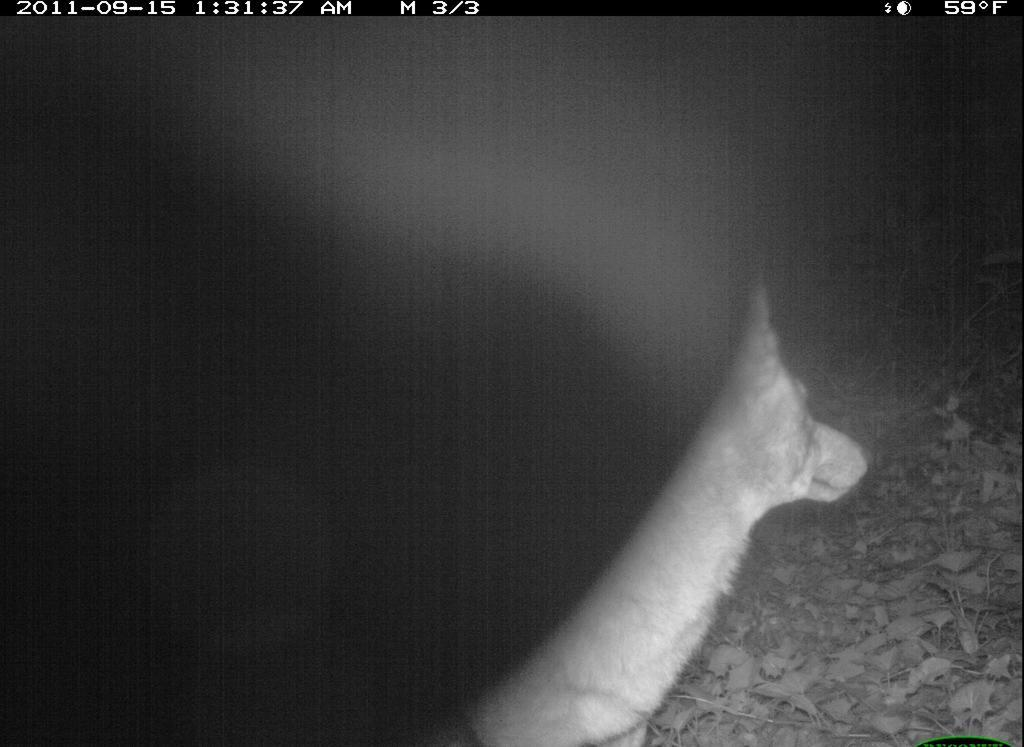coyote: (468, 274, 885, 745)
